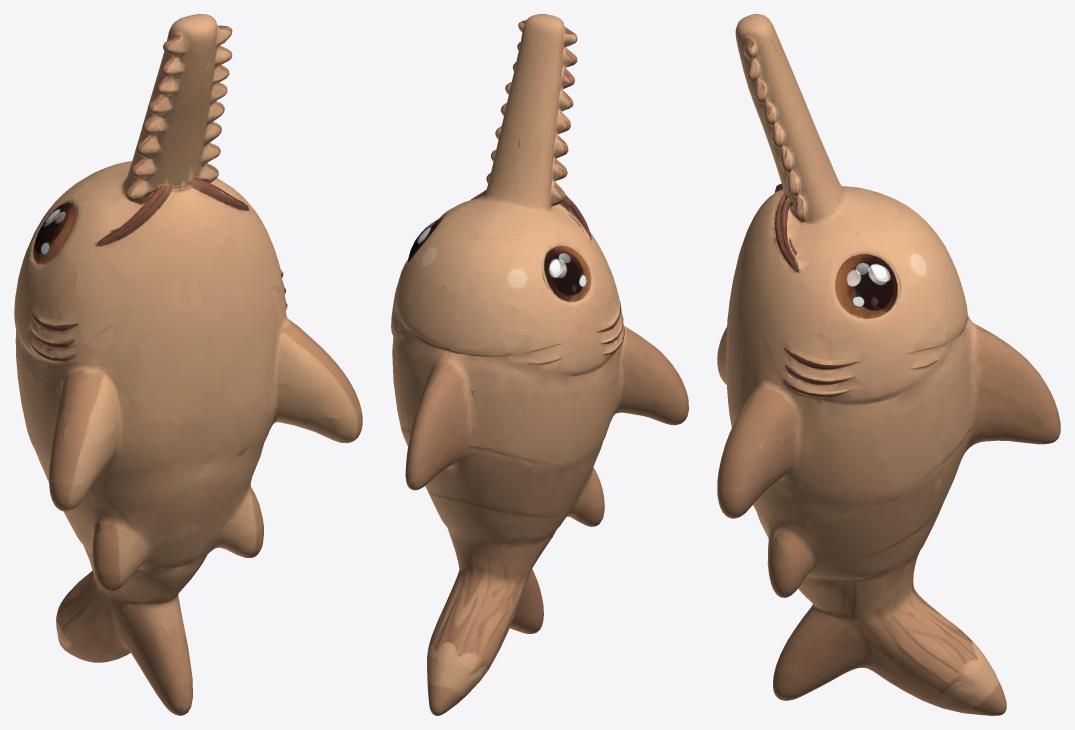
The picture shows the model from 3 angles, left to right: view 1: azimuth 30°, elevation 25°; view 2: azimuth 150°, elevation 25°; view 3: azimuth 270°, elevation 25°; orthographic projection. The views are drawn at different scales.
Visible parts, largest first — view 1: Mesh_0; view 2: Mesh_0; view 3: Mesh_0.
Boxes of the visible parts, bbox=[...] form: Mesh_0: bbox=[14, 14, 362, 715]; Mesh_0: bbox=[391, 14, 688, 715]; Mesh_0: bbox=[717, 14, 1060, 715].
Size of the model in its own units: 0.8479 by 1.9 by 0.8502.
1 material, 1 textured.
